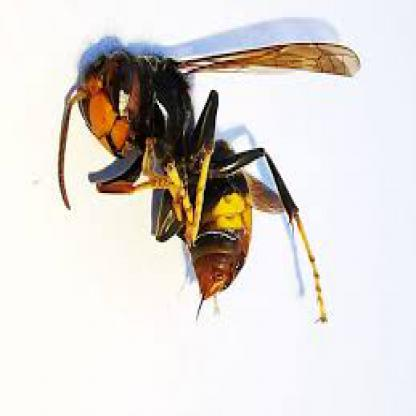asian: (64, 36, 366, 346)
